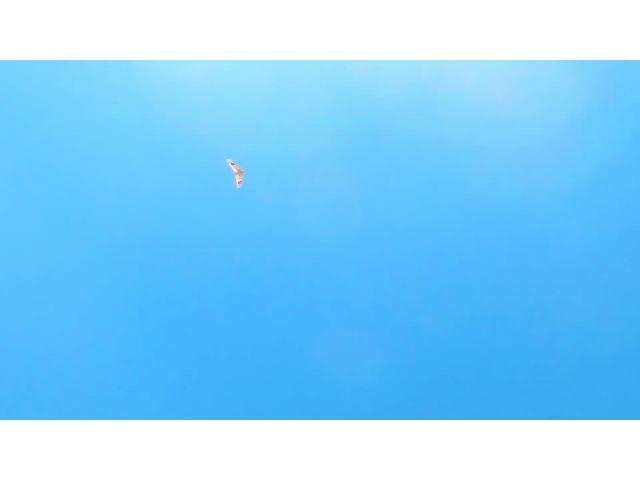Anti-Drone: (218, 151, 254, 197)
